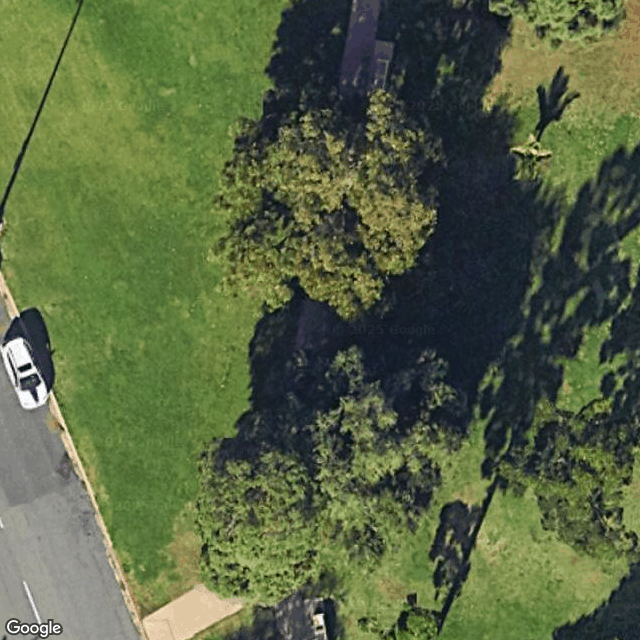palm: (506, 133, 557, 186)
